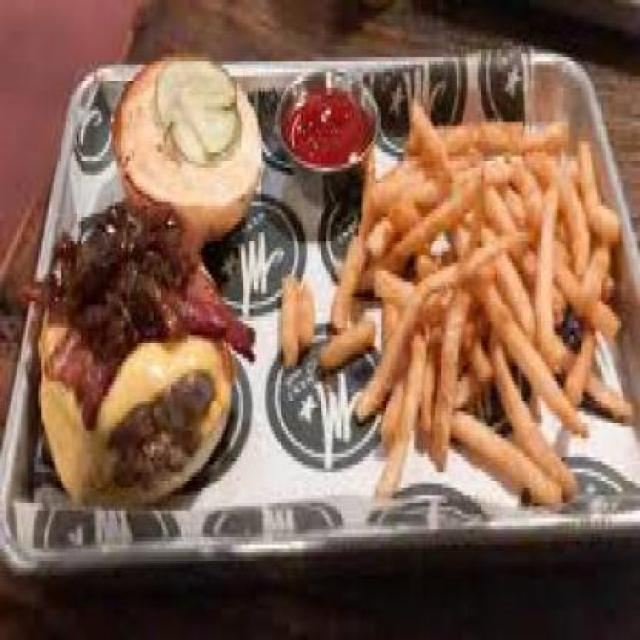french fries: (331, 95, 634, 507)
hamburger: (12, 49, 265, 511)
